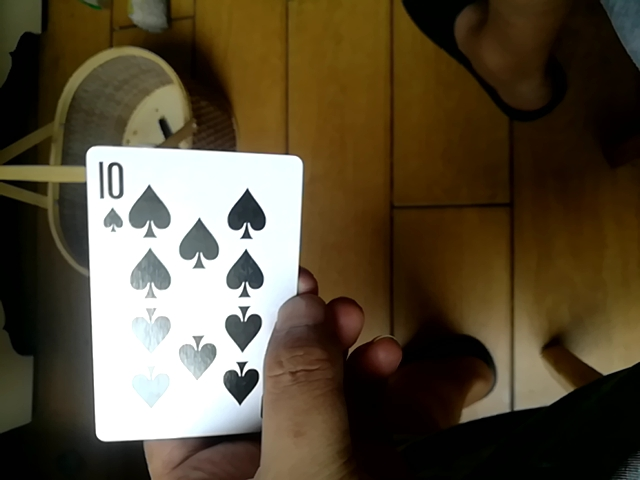ht 10: (84, 145, 300, 446)
